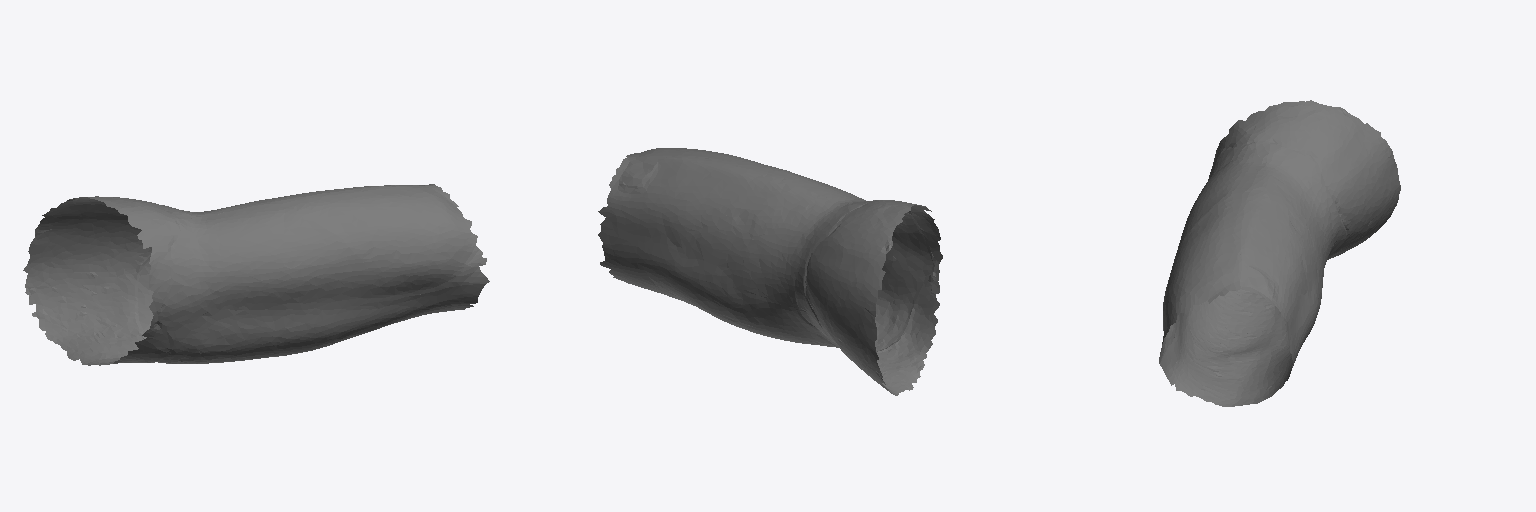
The model's file is PbrazoI.obj.
The picture shows the model from 3 angles: view 1: azimuth 30°, elevation 25°; view 2: azimuth 150°, elevation 25°; view 3: azimuth 270°, elevation 25°; orthographic projection.
Parts seen in each view (by area): view 1: brazoI; view 2: brazoI; view 3: brazoI.
Part boxes in pixels (x1,y1,x2,y2): brazoI: (23, 184, 489, 365); brazoI: (598, 148, 942, 395); brazoI: (1159, 100, 1400, 406).
Size of the model in its own units: 2.35 by 1.08 by 1.43.